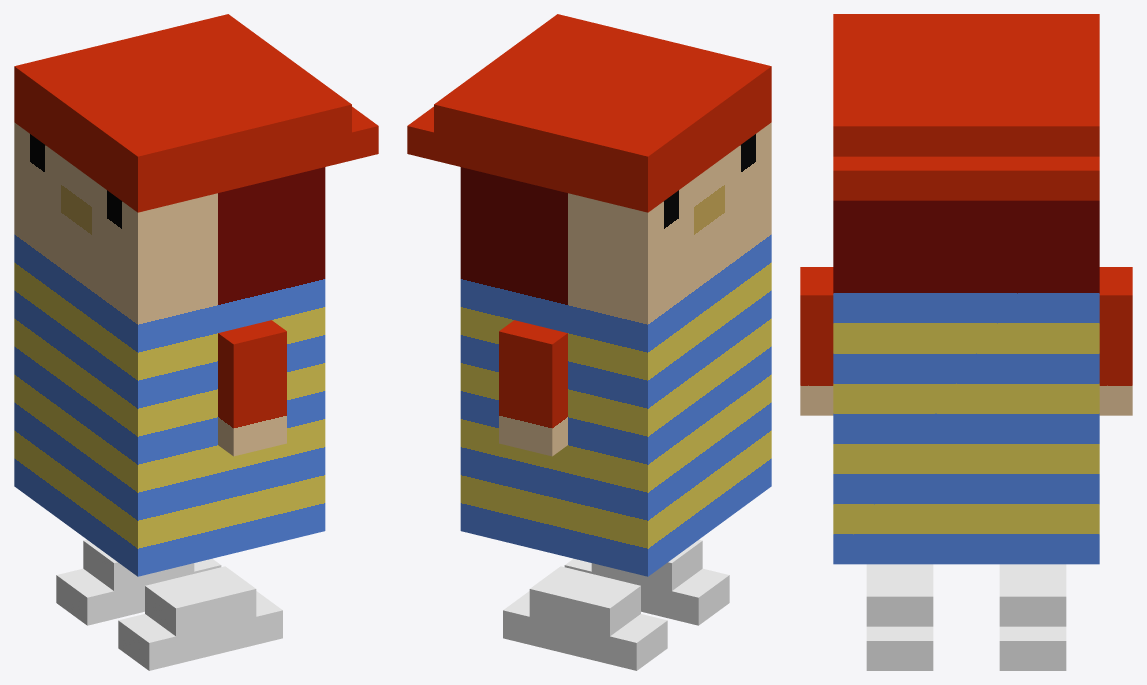
Rendered from Player_13.fbx.
The picture shows the model from 3 angles, left to right: view 1: azimuth 30°, elevation 25°; view 2: azimuth 150°, elevation 25°; view 3: azimuth 270°, elevation 25°; orthographic projection. The views are drawn at different scales.
Visible parts, largest first — view 1: Main, LeftFoot, LeftHand, RightFoot; view 2: Main, RightFoot, RightHand, LeftFoot; view 3: Main, LeftFoot, RightFoot, RightHand, LeftHand.
Part boxes in pixels (x1=…): Main: x1=14, y1=14, x2=378, y2=576; LeftFoot: x1=118, y1=566, x2=282, y2=670; LeftHand: x1=218, y1=320, x2=286, y2=456; RightFoot: x1=56, y1=539, x2=221, y2=625; Main: x1=407, y1=14, x2=771, y2=576; RightFoot: x1=503, y1=566, x2=667, y2=670; RightHand: x1=499, y1=320, x2=567, y2=456; LeftFoot: x1=564, y1=539, x2=729, y2=625; Main: x1=833, y1=14, x2=1099, y2=564; LeftFoot: x1=866, y1=564, x2=933, y2=670; RightFoot: x1=999, y1=564, x2=1066, y2=670; RightHand: x1=1099, y1=267, x2=1132, y2=415; LeftHand: x1=800, y1=267, x2=833, y2=415.
Bounding box in the file's own units: 9 × 19 × 10.
Materials: 1 (1 with a texture image).
